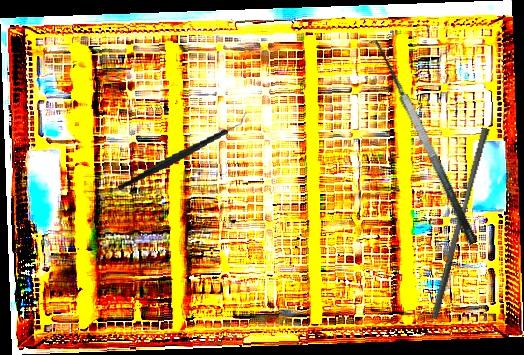Chopper: (110, 111, 255, 191)
Pusher: (431, 125, 490, 322)
Spatula Surgical: (359, 34, 479, 254)
